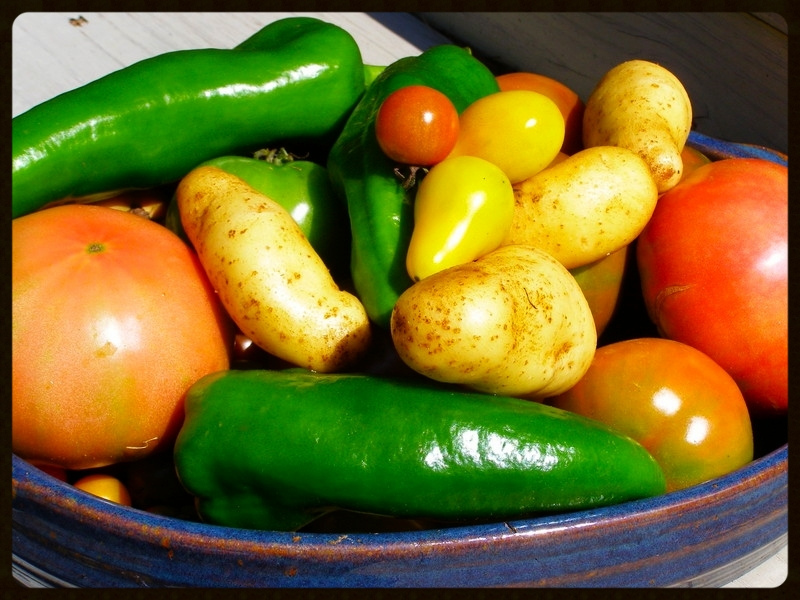boiled potatoes: (172, 171, 360, 359), (379, 248, 591, 394), (506, 147, 654, 266), (572, 59, 689, 192)
